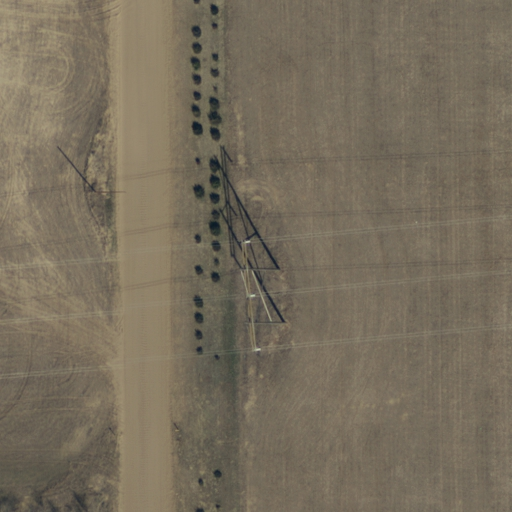DT: (80, 178, 117, 213)
TT: (228, 230, 293, 360)
